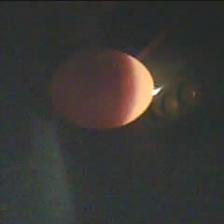fertile: (50, 50, 155, 130)
